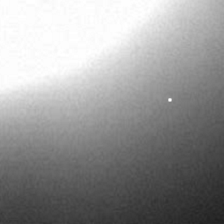Target: (166, 96, 173, 103)
